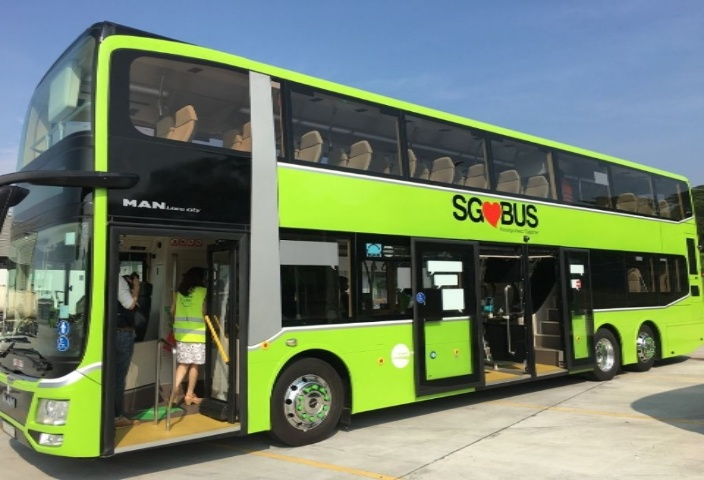bus: (8, 14, 704, 443)
